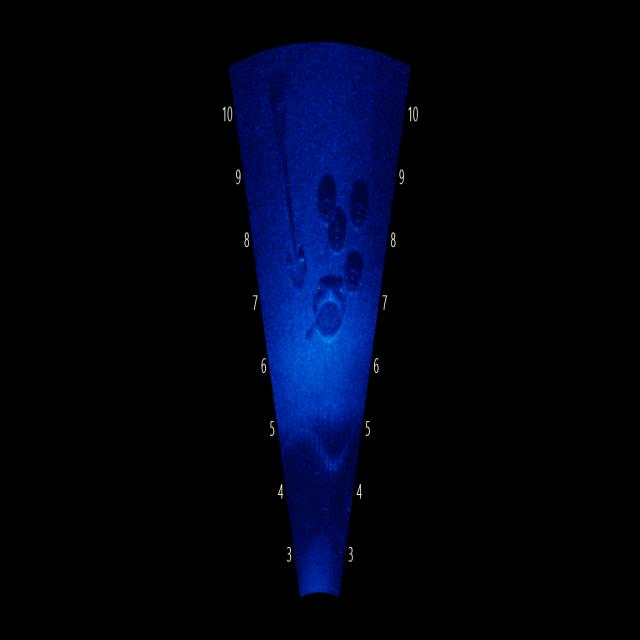circle: (310, 276, 347, 346), (341, 257, 366, 299)
